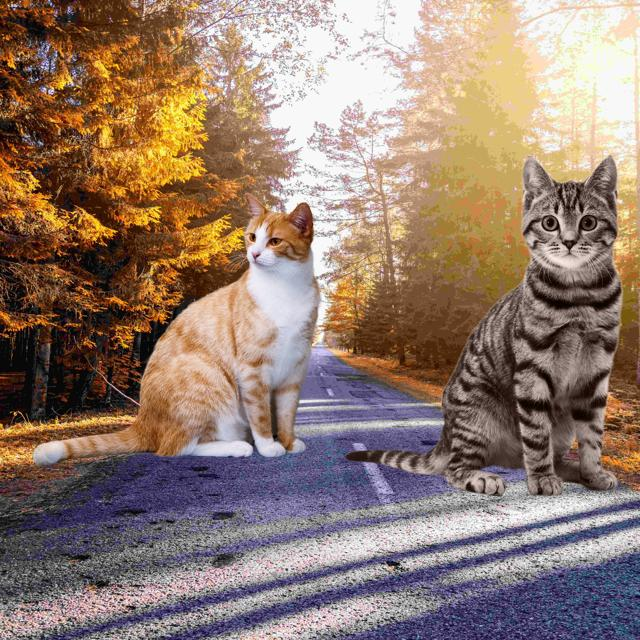cat: (346, 154, 623, 497), (17, 182, 337, 477)
